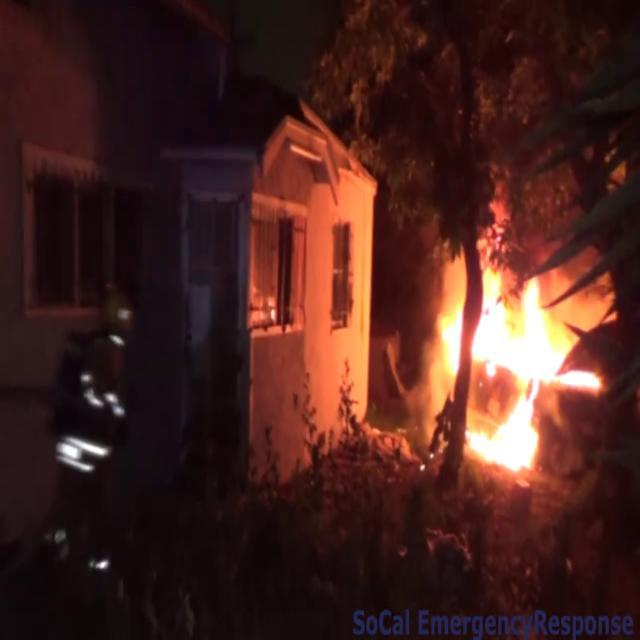Fire: (422, 224, 624, 478)
